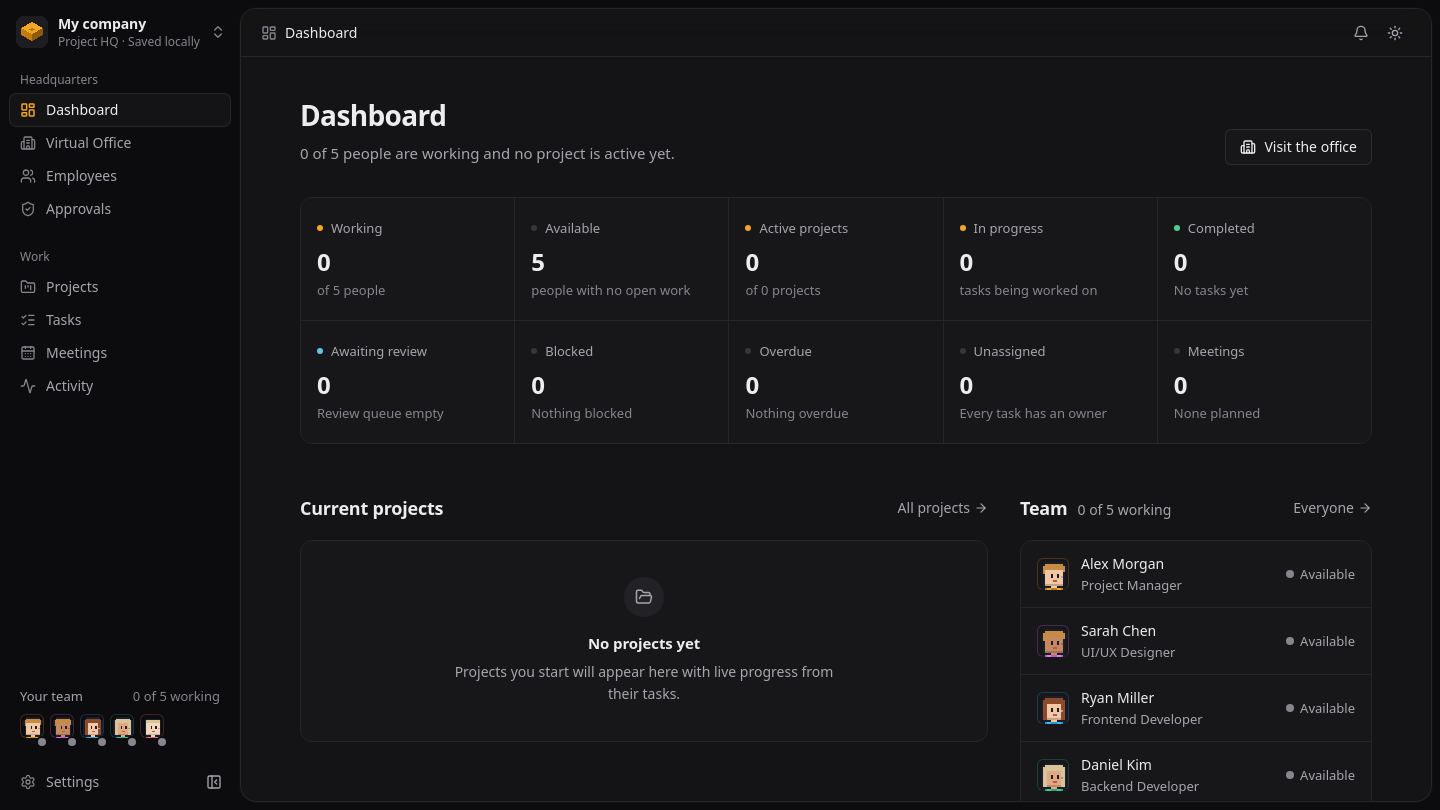
it: application shell › collapses the sidebar, keeps labels accessible and remembers the choice
Click the button named "Collapse sidebar" at x=214, y=782, box [198,766,230,798]
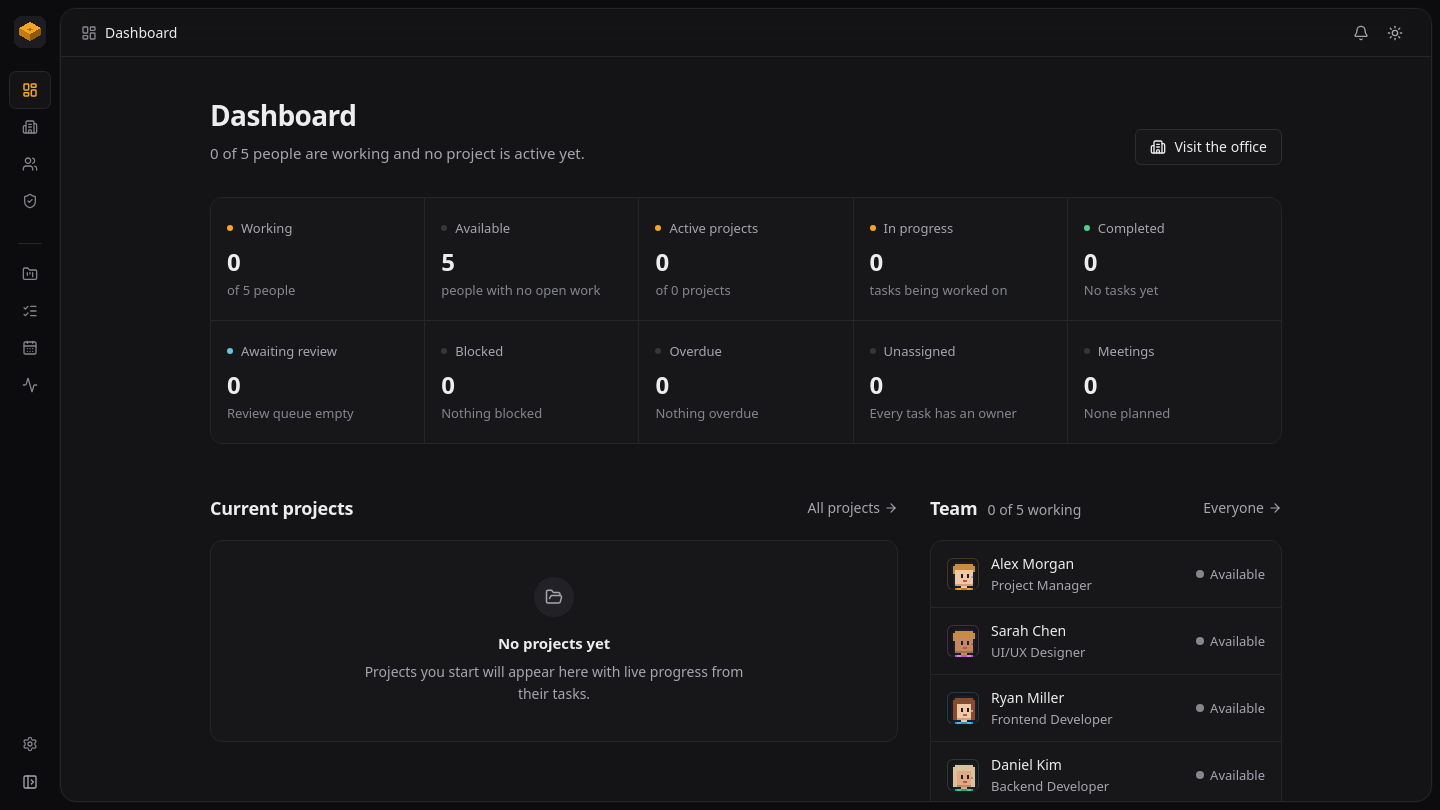
Expected: the 5th link named "Projects" is shown, [10,256,50,292]
Result: the button named "Expand sidebar" is collapsed at [14,766,46,798]
